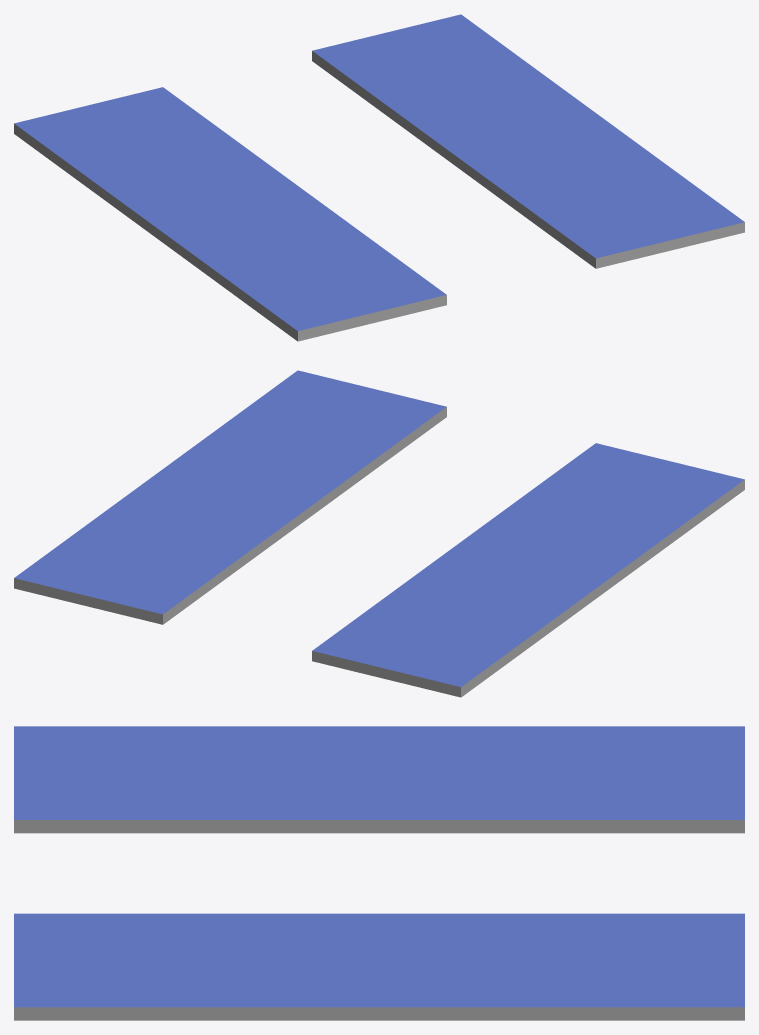
The model's file is Satellite Kit wings 1.glb.
The picture shows the model from 3 angles, top to bottom: view 1: azimuth 30°, elevation 25°; view 2: azimuth 150°, elevation 25°; view 3: azimuth 270°, elevation 25°; orthographic projection. The views are drawn at different scales.
Parts seen in each view (by area): view 1: SatWing1.001, SatWing2; view 2: SatWing1.001, SatWing2; view 3: SatWing1.001, SatWing2.
Part boxes in pixels (x1,y1,x2,y2): SatWing1.001: (312,14,744,268); SatWing2: (14,87,446,341); SatWing1.001: (14,370,446,624); SatWing2: (312,443,744,697); SatWing1.001: (14,913,744,1020); SatWing2: (14,726,744,833).
Size of the model in its own units: 0.09 by 0.002 by 0.099.
